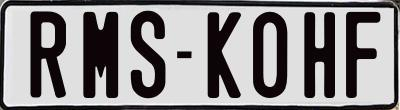0: (252, 10, 290, 99)
F: (345, 12, 381, 102)
H: (301, 11, 337, 98)
K: (205, 9, 242, 101)
M: (83, 12, 119, 100)
R: (28, 11, 68, 101)
S: (129, 10, 170, 103)
